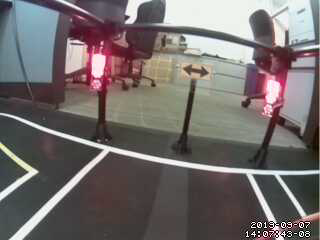Left_Right_sign: (178, 59, 215, 82)
Traffic_light_red: (90, 46, 107, 92), (264, 76, 280, 122)
